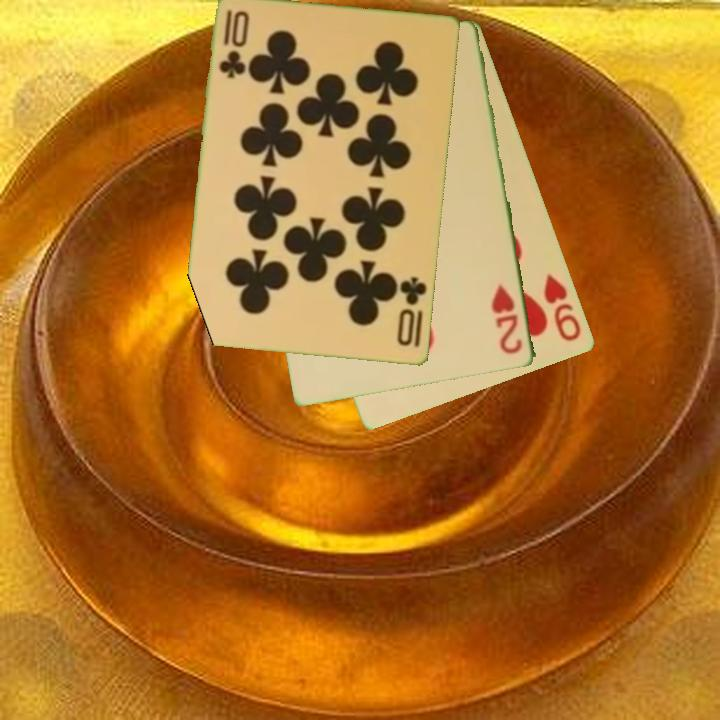10c: (394, 273, 430, 350), (216, 7, 246, 82)
2h: (489, 281, 526, 357)
9h: (540, 270, 584, 345)
